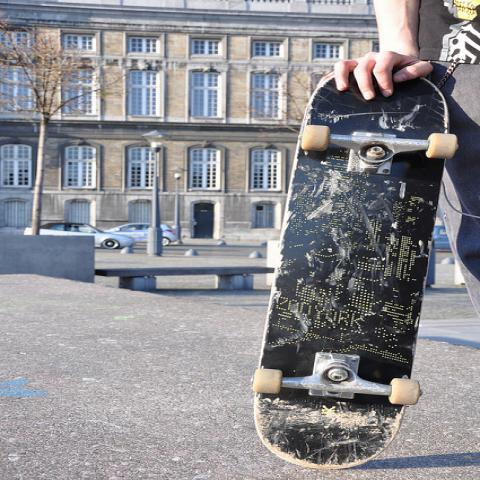car: (23, 220, 136, 248), (101, 222, 181, 247), (430, 217, 452, 249)
